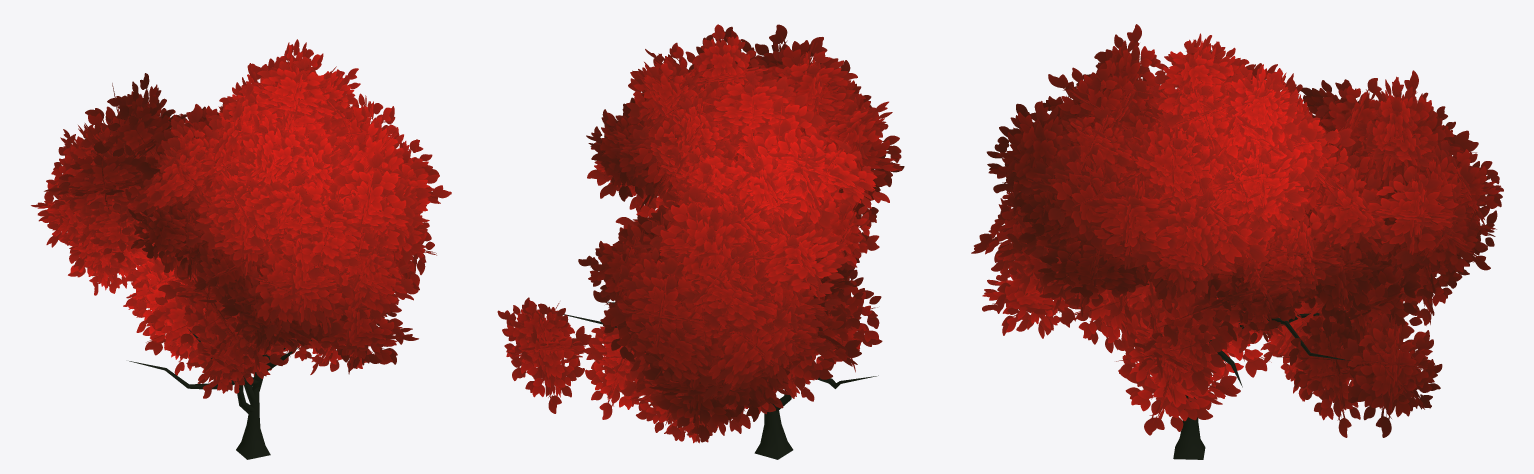
The model's file is tree_large.glb.
The picture shows the model from 3 angles, left to right: view 1: azimuth 30°, elevation 25°; view 2: azimuth 150°, elevation 25°; view 3: azimuth 270°, elevation 25°; orthographic projection. The views are drawn at different scales.
Parts seen in each view (by area): view 1: Mesh_0.001; view 2: Mesh_0.001; view 3: Mesh_0.001.
Boxes of the visible parts, <box> form: Mesh_0.001: <box>31,39,451,459</box>; Mesh_0.001: <box>497,24,904,459</box>; Mesh_0.001: <box>971,24,1503,459</box>.
Size of the model in its own units: 14.37 by 16.75 by 19.02.
1 material, 1 textured.
